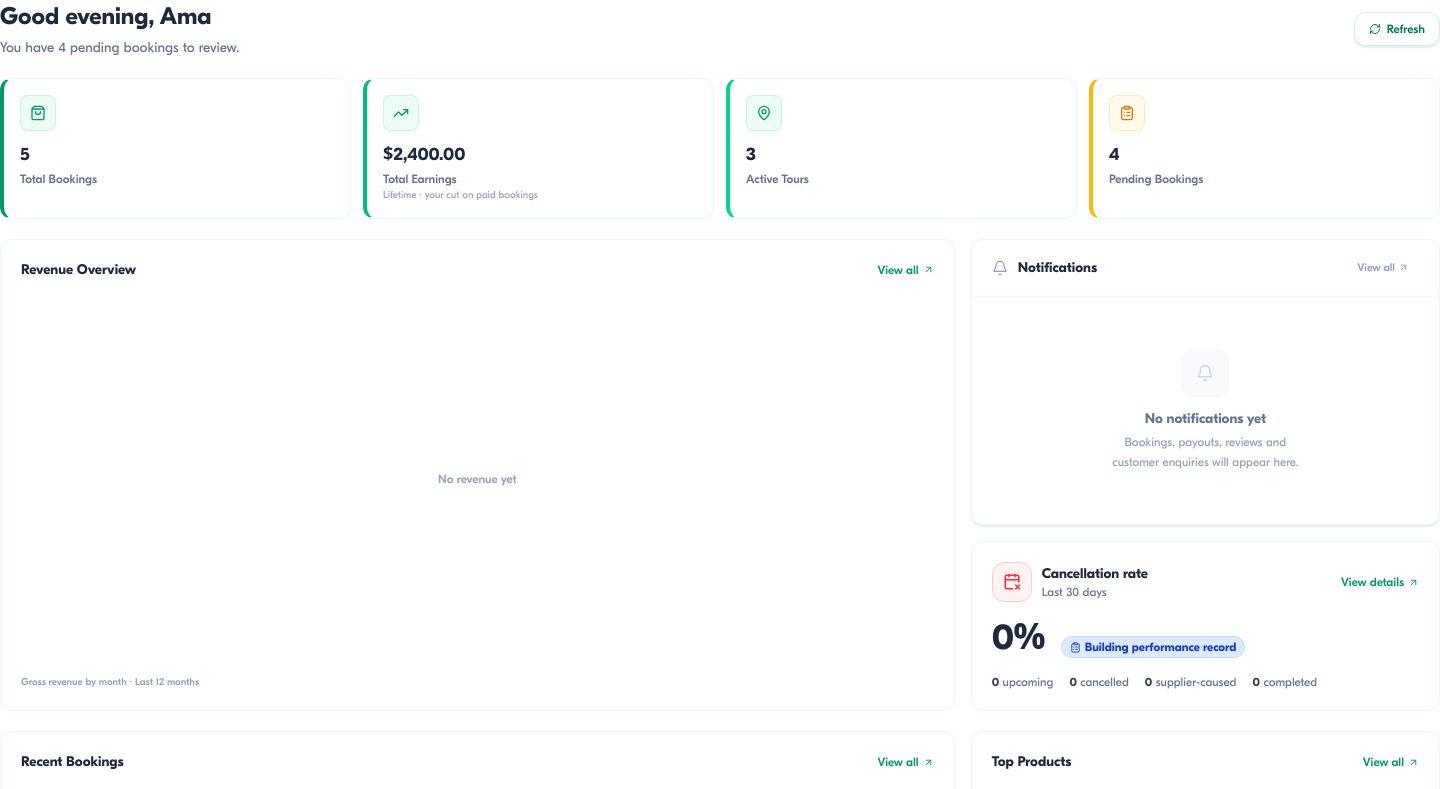
it: once the numbers are in › keeps showing the numbers it already has while a manual refresh hangs
Expected: the text "You have 4 pending bookings to review." is shown, [0,38,239,58]
Click the button "Refresh": {"x": 1397, "y": 29} [1354,12,1439,46]
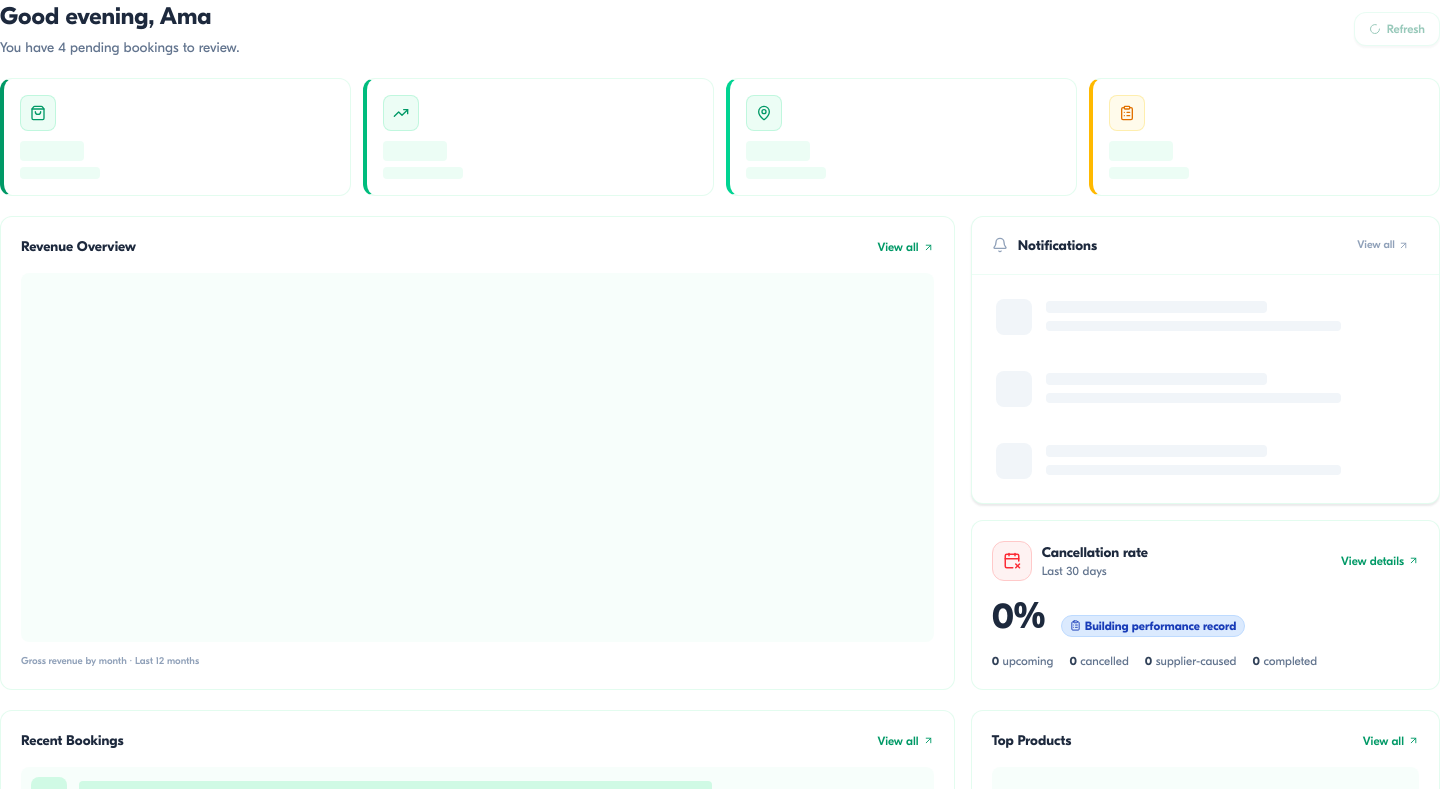
Expected: the text "You have 4 pending bookings to review." is shown, [0,38,239,58]
Expected: the button "Refresh" is disabled, [1354,12,1439,46]
